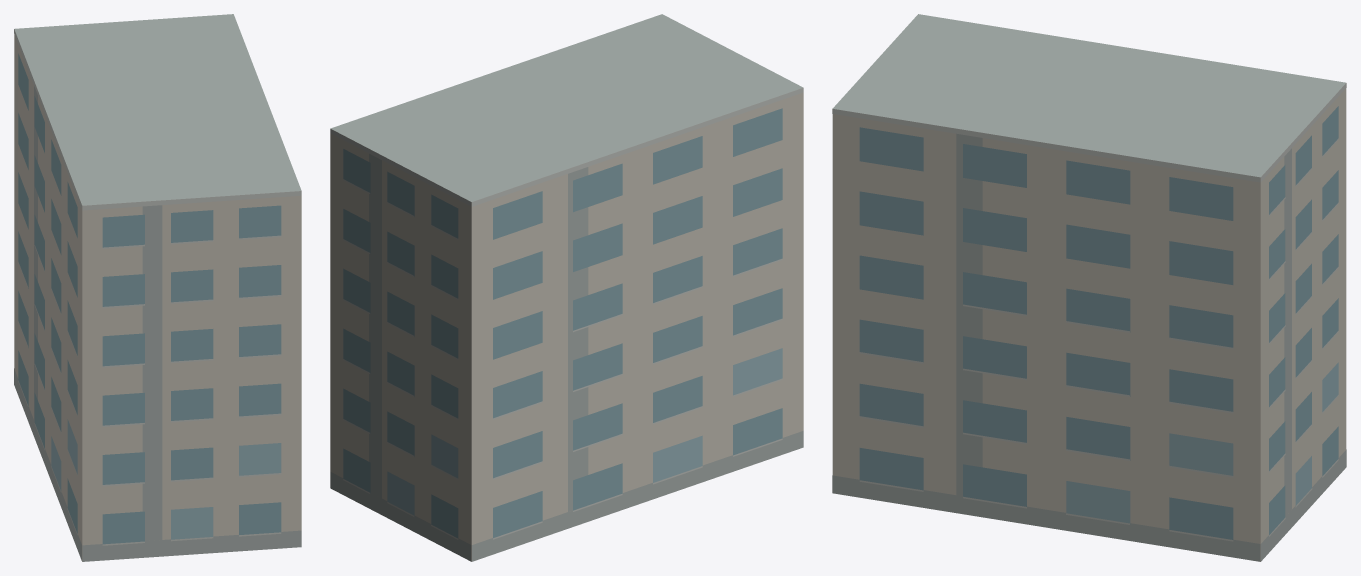
File: survey-upis-32878015.glb
The picture shows the model from 3 angles, left to right: view 1: azimuth 30°, elevation 25°; view 2: azimuth 150°, elevation 25°; view 3: azimuth 270°, elevation 25°; orthographic projection. The views are drawn at different scales.
Parts seen in each view (by area): view 1: survey-upis-32878015.tmp; view 2: survey-upis-32878015.tmp; view 3: survey-upis-32878015.tmp.
Boxes of the visible parts, x1=… form: survey-upis-32878015.tmp: x1=14, y1=14, x2=301, y2=561; survey-upis-32878015.tmp: x1=330, y1=14, x2=803, y2=561; survey-upis-32878015.tmp: x1=832, y1=14, x2=1346, y2=561.
Size of the model in its own units: 16.59 by 18.2 by 22.06.
